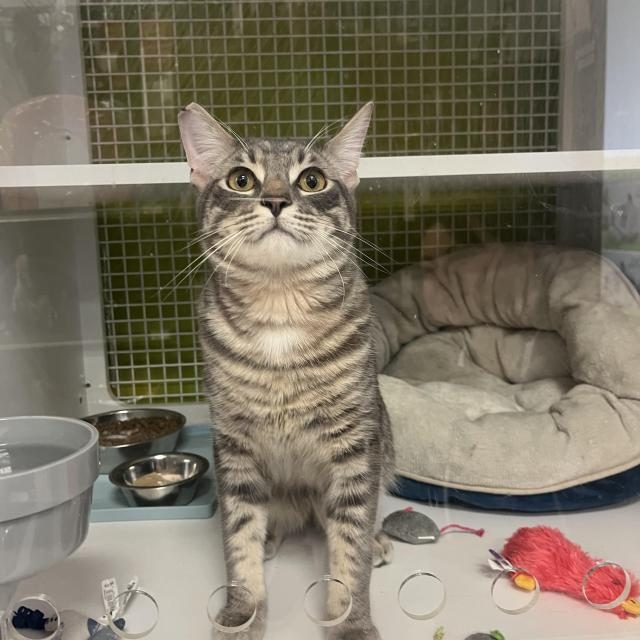american_shorthair_cat: (170, 96, 387, 301)
